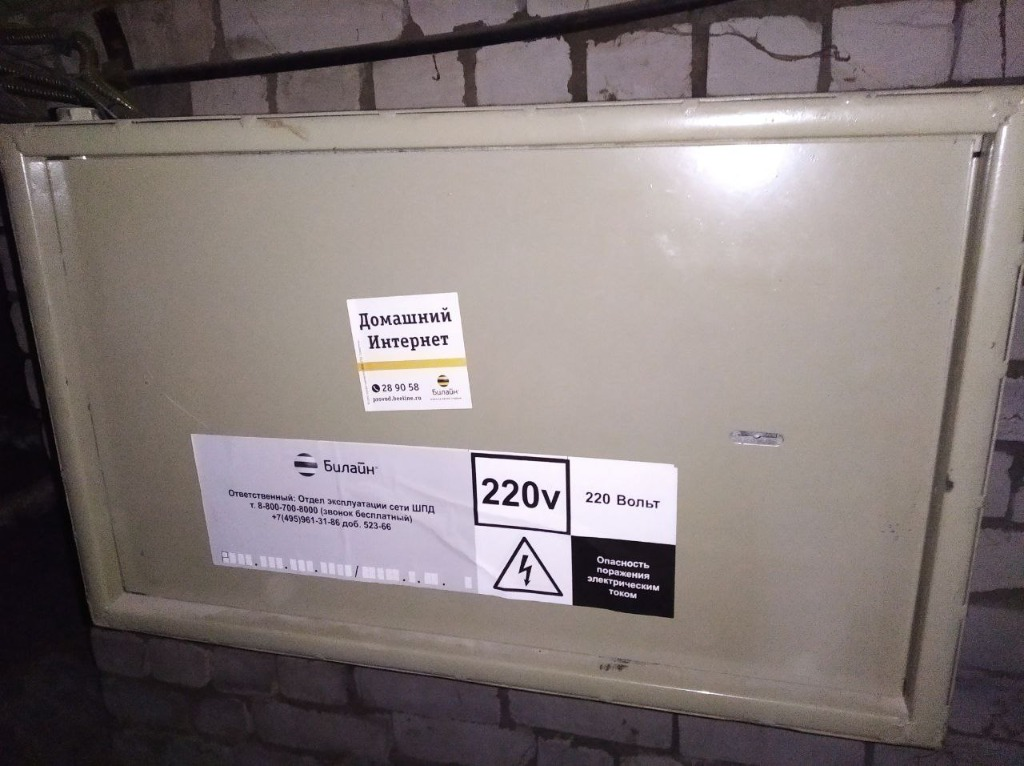e2-6u: (4, 84, 1019, 755)
